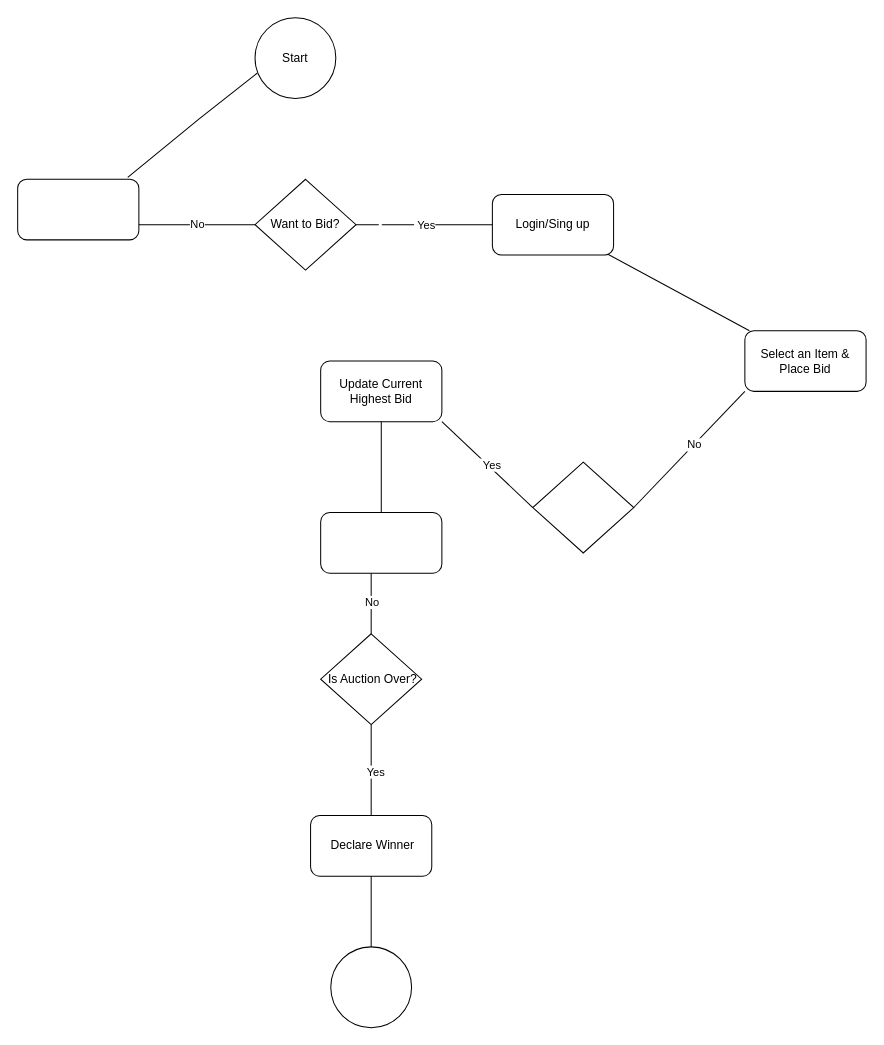
This 884x1045 diagram has some shape labels left out. The shapes that lost their labels are listed below. From the top down, each one's centre as x and y in pixels, then its label:
At [78,209]: "Browse Auctions".
At [583,507]: "Is the Bid Higher?".
At [381,542]: "Wait for Auction to End".
At [371,987]: "End".
